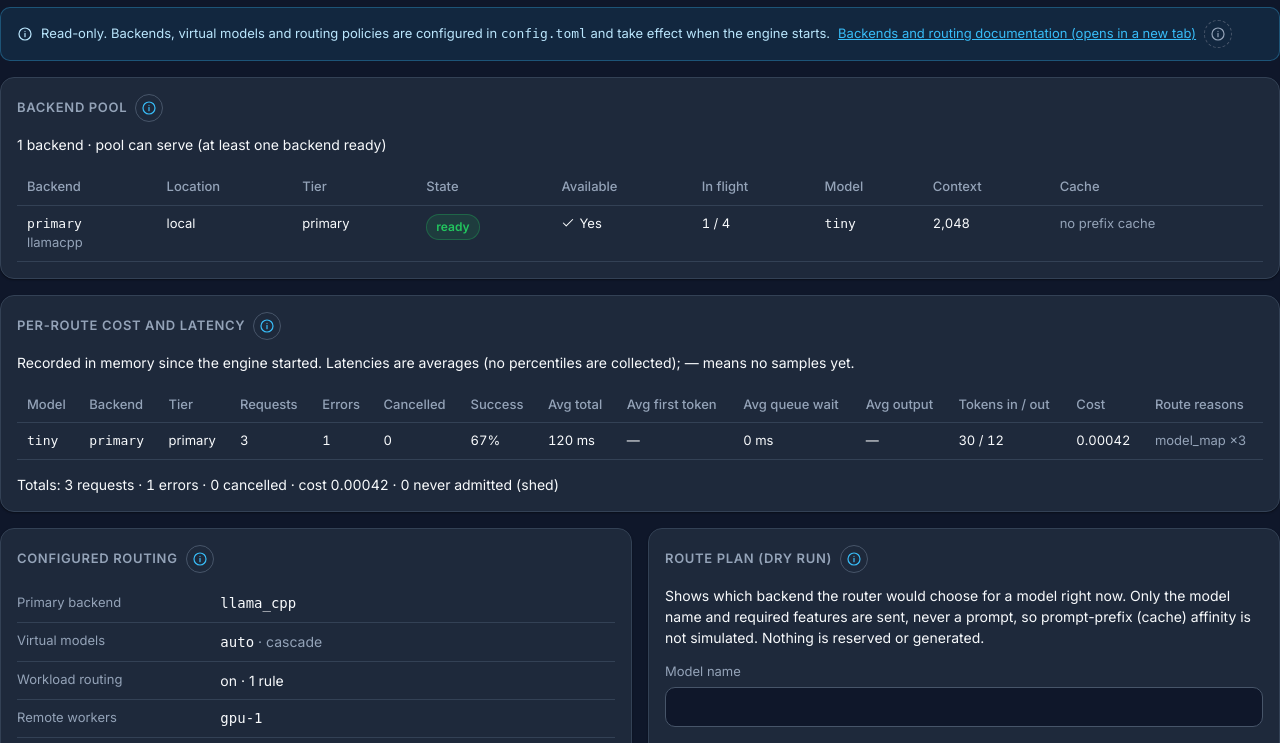
Backends & Routing view › dry-runs a route with only the model and required features, and shows each step
expect the element named "Backend pool table" is shown: met, box top-left (17, 169), bottom-right (1263, 262)
Type "auto" into the field labelled "Model name" at (964, 707), box top-left (665, 687), bottom-right (1263, 727)
(page scrolled)
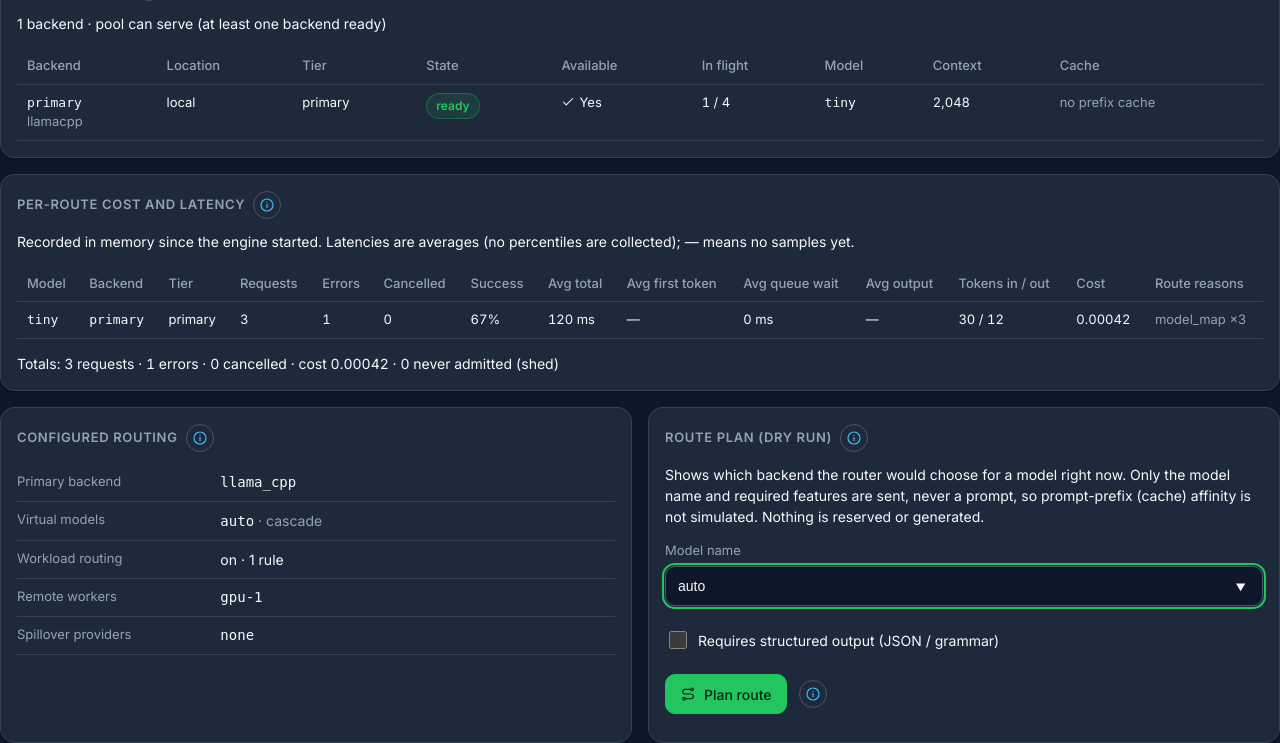
Click the checkbox labelled "Requires structured output (JSON / grammar)" at (678, 640), box top-left (669, 631), bottom-right (687, 649)
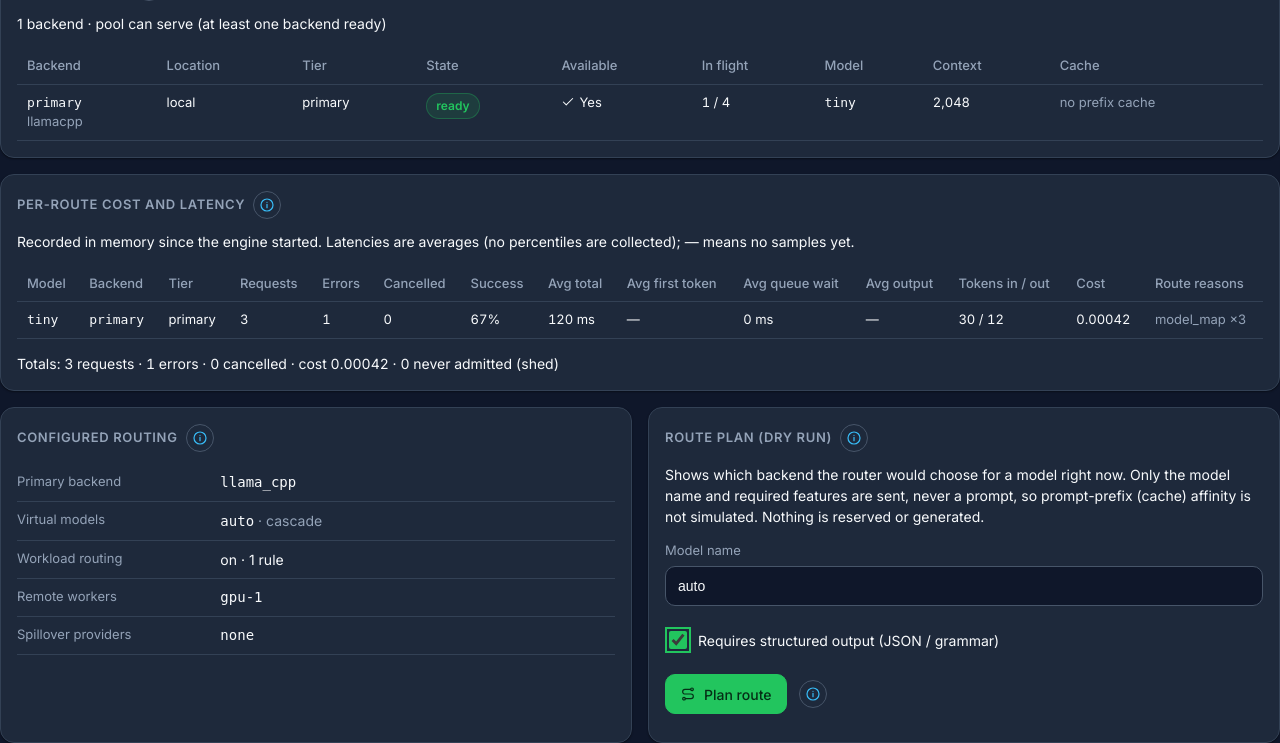
Click the button "Plan route" at (726, 694), box top-left (665, 674), bottom-right (786, 714)
(page scrolled)
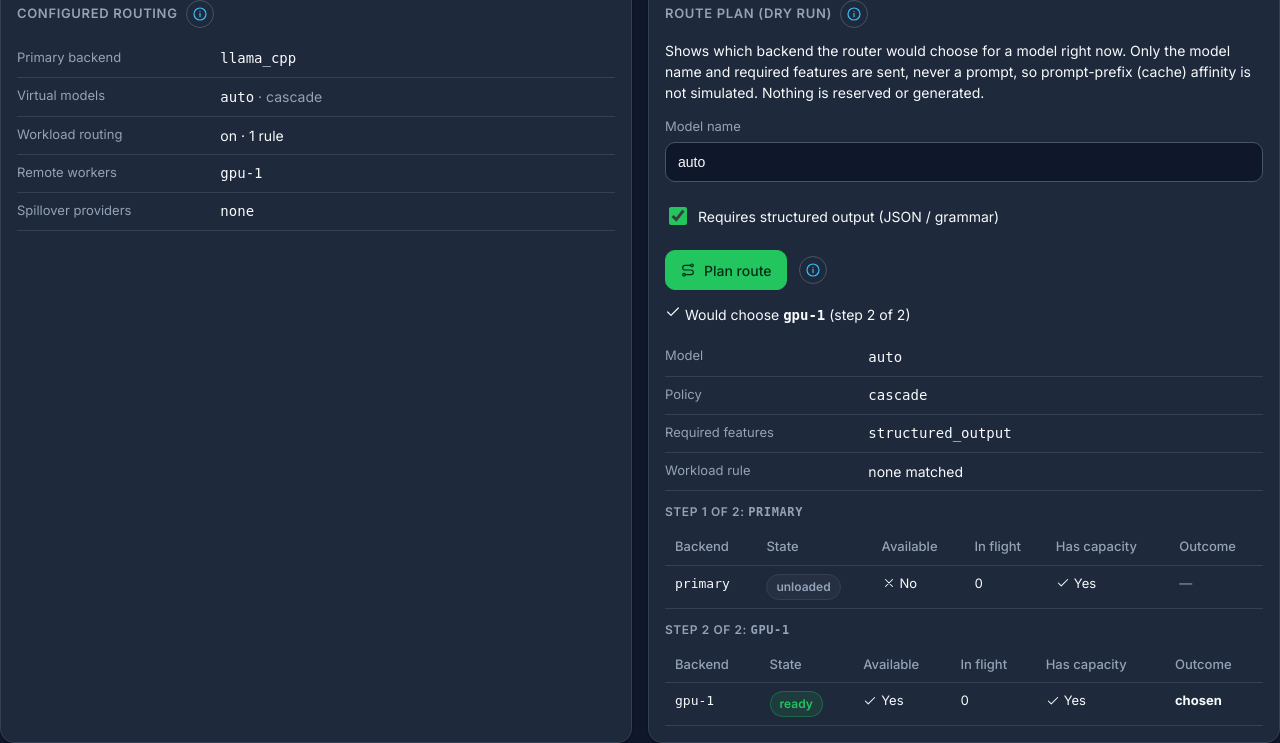
expect the element with test id "route-plan-result" shows "Would choose gpu-1 (step 2 of 2)": met, box top-left (665, 304), bottom-right (1263, 726)
expect the element with test id "route-plan-result" shows "Step 1 of 2: primary": met, box top-left (665, 304), bottom-right (1263, 726)
expect the element with test id "route-plan-result" shows "structured_output": met, box top-left (868, 425), bottom-right (1012, 441)
